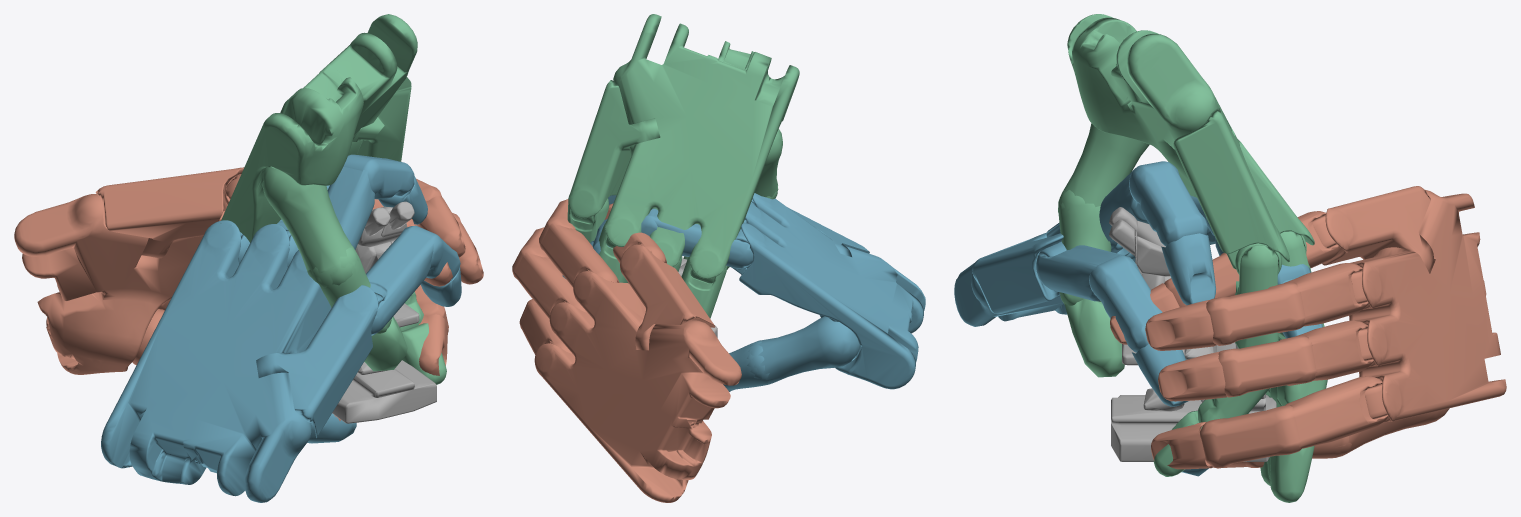
3 renders of one model, left to right at view 1: azimuth 30°, elevation 25°; view 2: azimuth 150°, elevation 25°; view 3: azimuth 270°, elevation 25°, orthographic. The views are drawn at different scales.
Bounding box in the file's own units: 0.1951 × 0.2033 × 0.2114.
